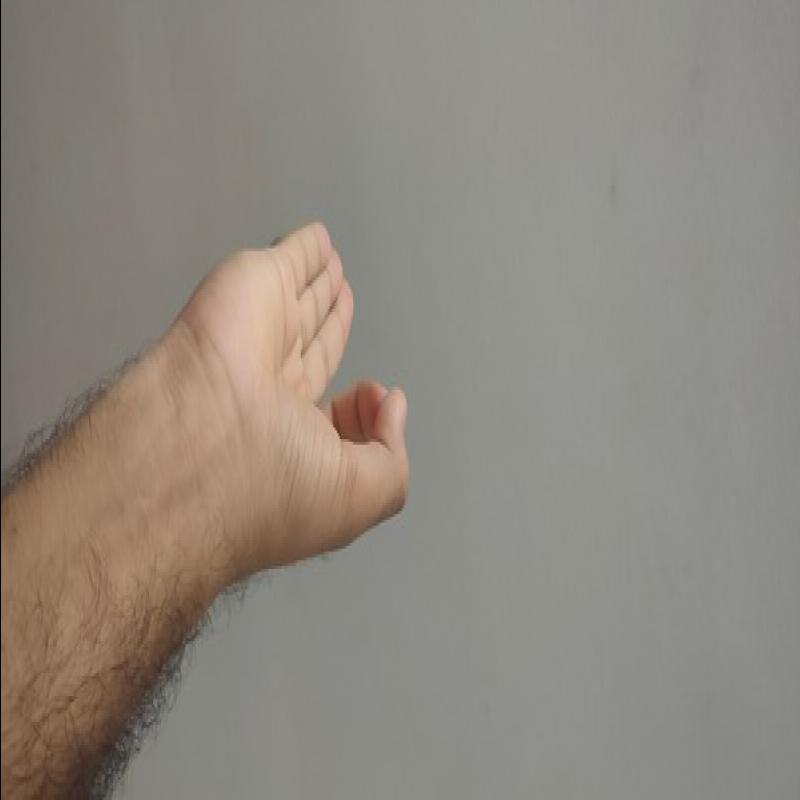Mudraakhyam: (179, 205, 430, 573)
